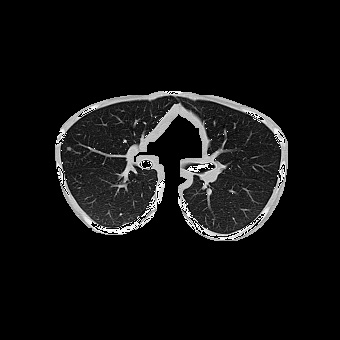PN: (65, 145, 71, 151)
